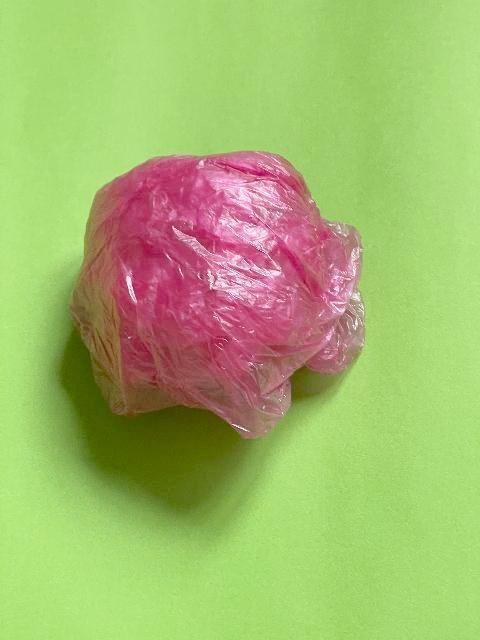plasticbag: (66, 148, 366, 440)
